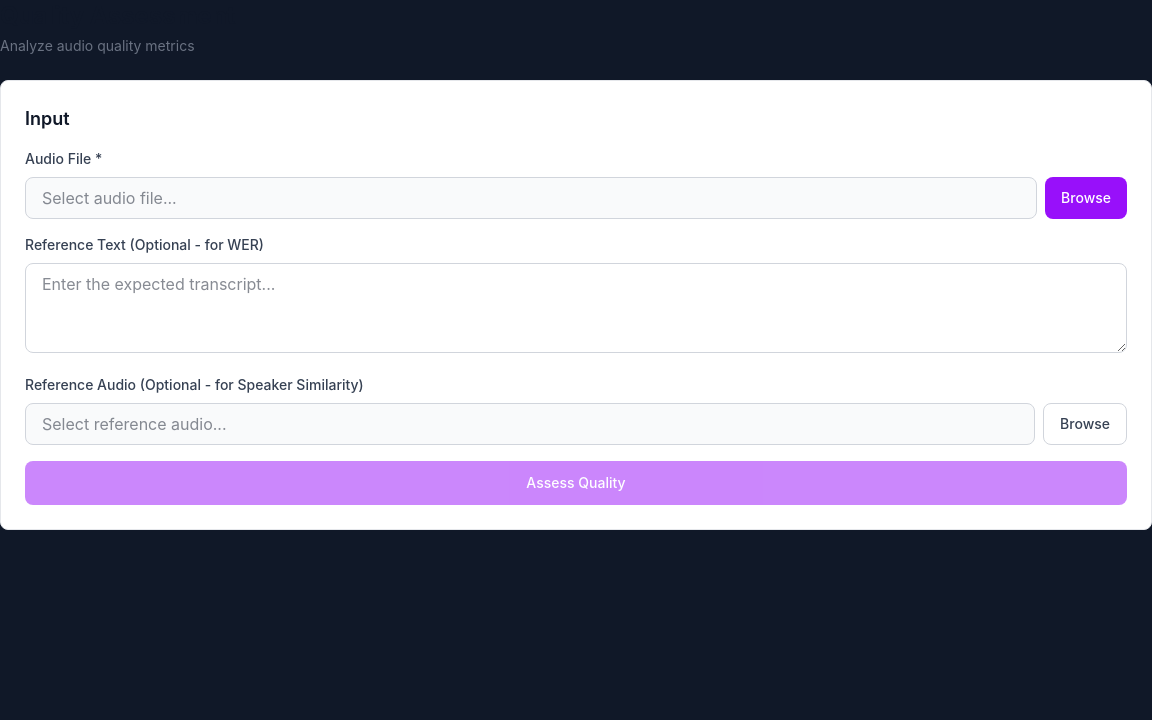
Test: QualityDashboard › Quality Assessment › should display MOS label correctly
Click the button with aria-label "browse audio file": click(1086, 198) [1045,177,1127,219]
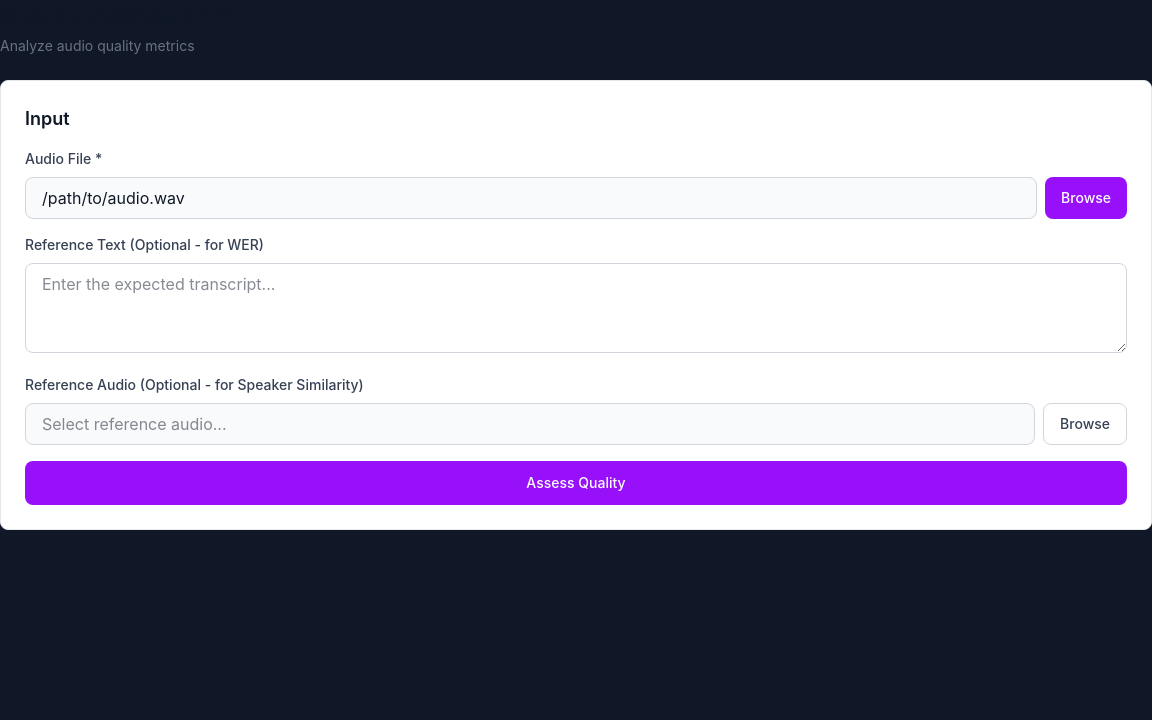
expect the button "Assess Quality" is enabled: met
Click the button "Assess Quality": click(576, 483) [25,461,1127,505]
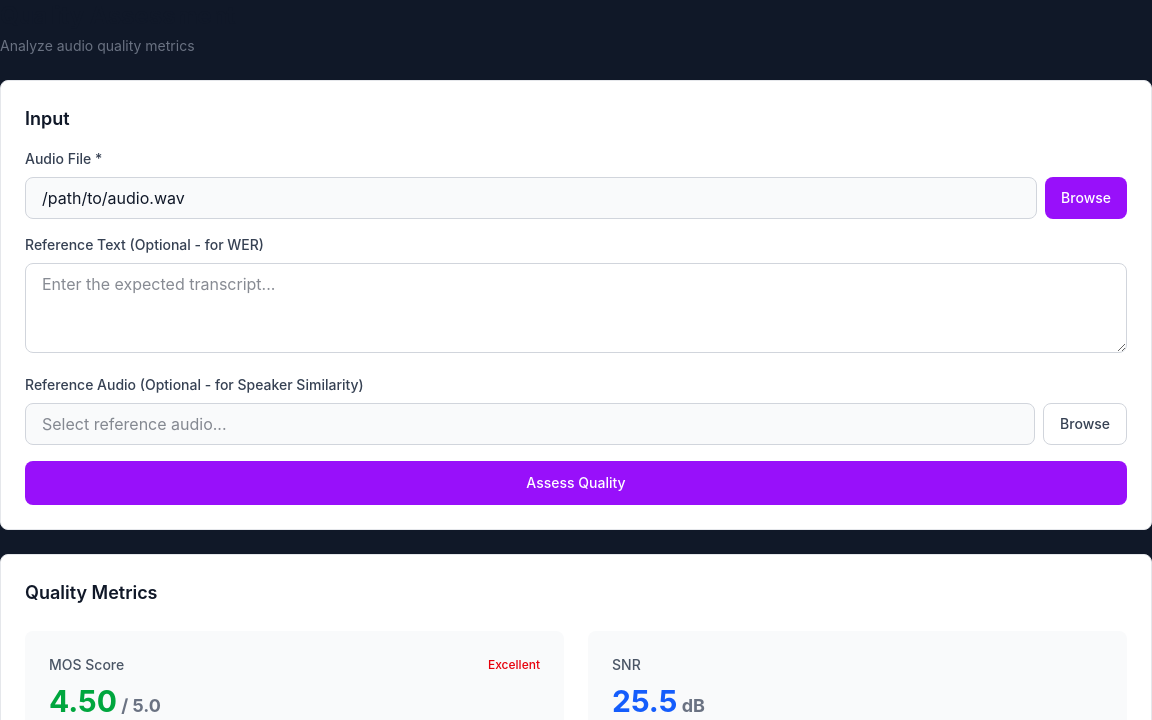
expect the text "Excellent" is shown: met, box [488,657,540,673]
